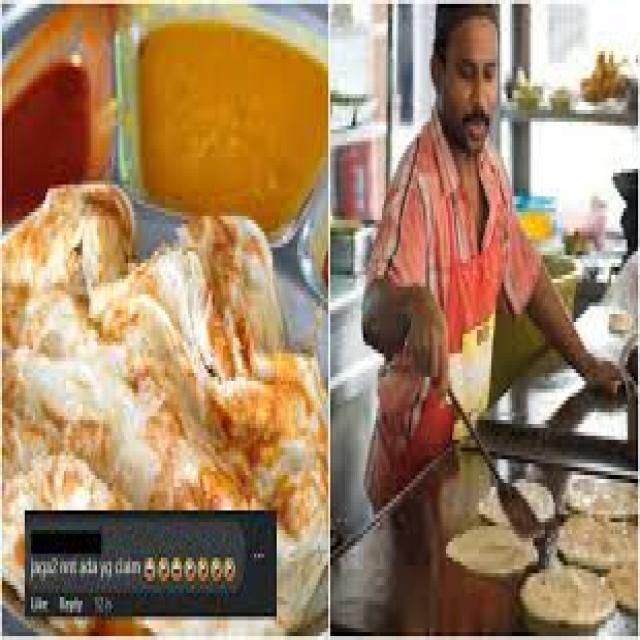Paratha: (0, 174, 324, 615)
